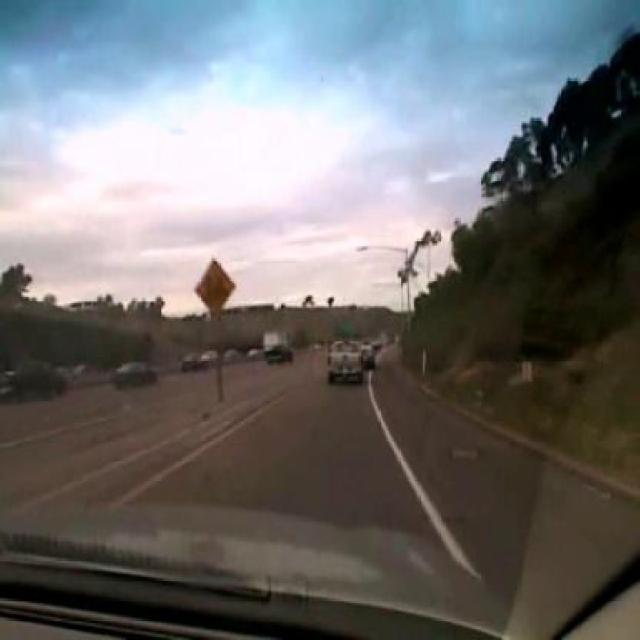addedLane: (192, 257, 236, 317)
